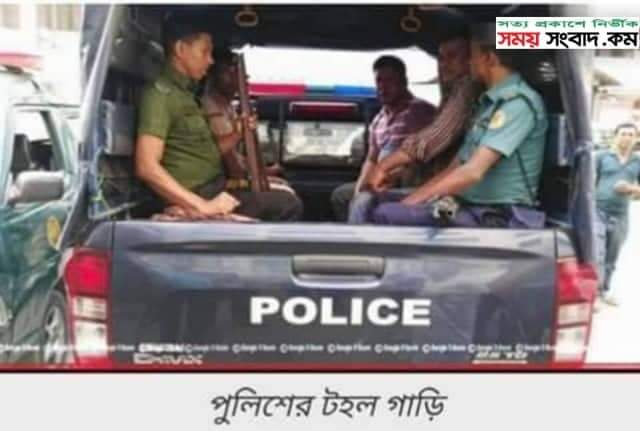policecar: (53, 1, 604, 365)
